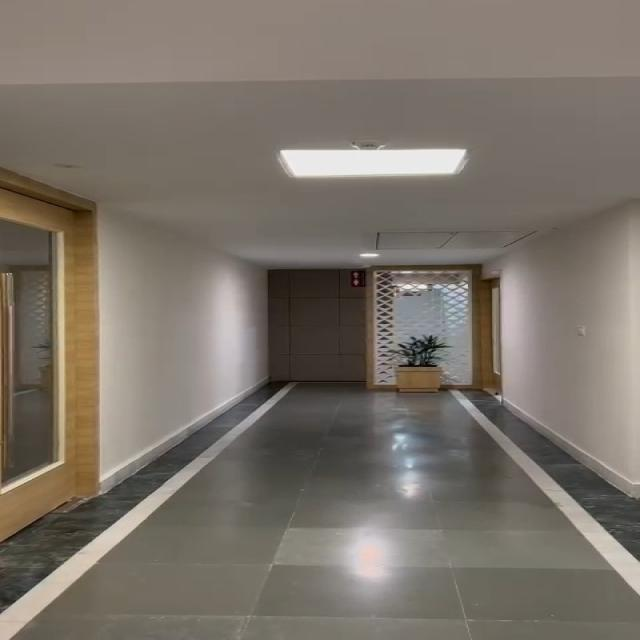door: (0, 170, 101, 516)
floor: (224, 399, 509, 634)
furniture: (379, 338, 456, 399)
wall: (113, 210, 270, 407), (513, 251, 640, 426)
